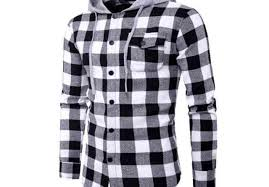squared: (56, 1, 218, 185)
